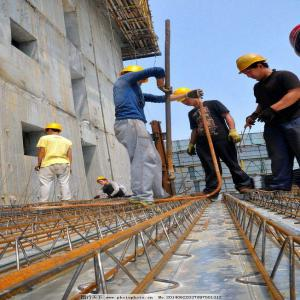yellow: (236, 53, 271, 82), (120, 66, 150, 86), (174, 88, 199, 108), (45, 124, 63, 137), (96, 176, 109, 186)
